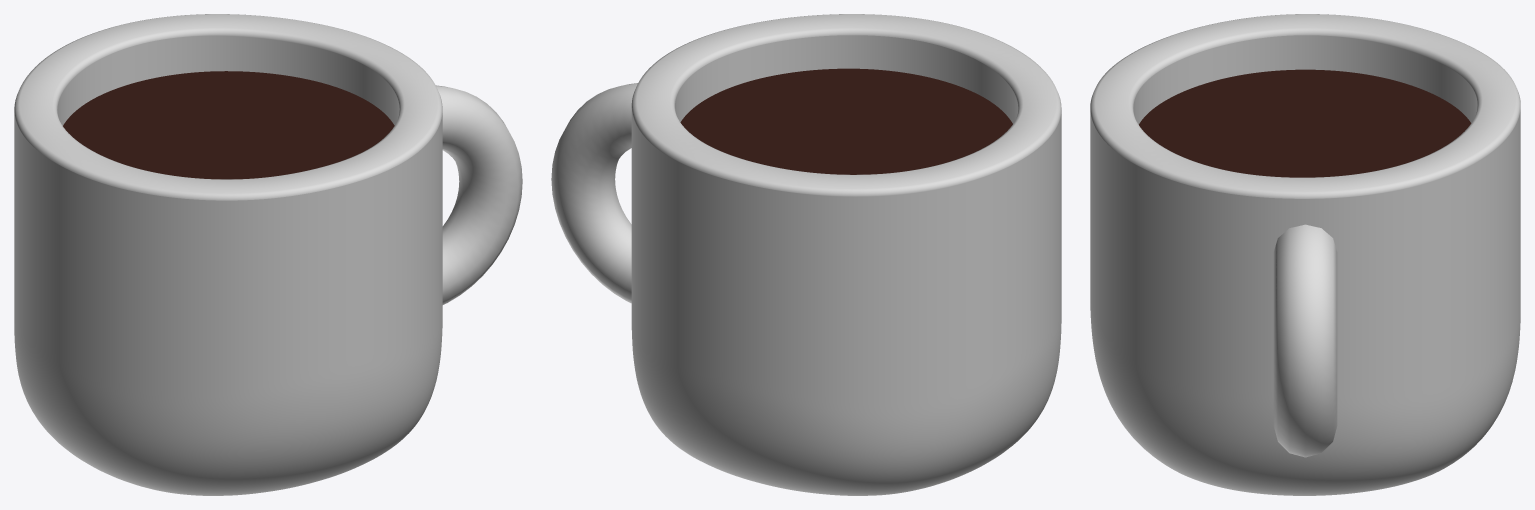
File: TazzaCaffe.fbx
3 views of the same model, side by side, from view 1: azimuth 30°, elevation 25°; view 2: azimuth 150°, elevation 25°; view 3: azimuth 270°, elevation 25° (orthographic).
Visible parts, largest first — view 1: Tazza, Caffè; view 2: Tazza, Caffè; view 3: Tazza, Caffè.
Boxes of the visible parts, bbox=[...] form: Tazza: bbox=[14, 14, 522, 495]; Caffè: bbox=[63, 71, 394, 179]; Tazza: bbox=[551, 14, 1061, 495]; Caffè: bbox=[680, 68, 1012, 174]; Tazza: bbox=[1090, 14, 1520, 495]; Caffè: bbox=[1139, 69, 1471, 177].
Bounding box in the file's own units: 255 × 177 × 199.
